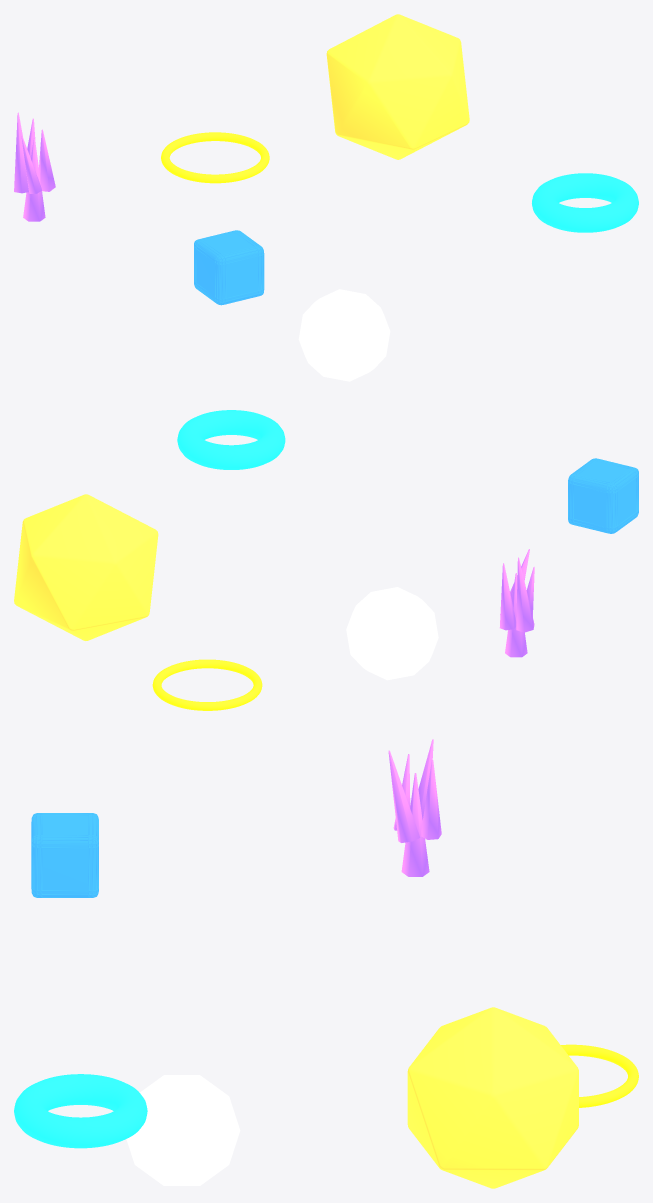
File: eecohm_hero_shapes.glb
The picture shows the model from 3 angles, top to bottom: view 1: azimuth 30°, elevation 25°; view 2: azimuth 150°, elevation 25°; view 3: azimuth 270°, elevation 25°; orthographic projection. The views are drawn at different scales.
Visible parts, largest first — view 1: HeroIcosahedron, HeroGemSphere, HeroTorusKnot, HeroTechCube, HeroGoldRing, Crystal_Spike_0, Crystal_Spike_2, Crystal_Spike_4; view 2: HeroIcosahedron, HeroGemSphere, HeroTorusKnot, HeroTechCube, HeroGoldRing, Crystal_Spike_2, Crystal_Spike_0, Crystal_Spike_1; view 3: HeroIcosahedron, HeroGemSphere, HeroTorusKnot, HeroTechCube, HeroGoldRing, Crystal_Spike_0, Crystal_Spike_4, Crystal_Spike_1.
Part boxes in pixels (x1,y1,x2,y2): HeroIcosahedron: (326,14,469,159); HeroGemSphere: (298,289,390,381); HeroTorusKnot: (532,173,638,232); HeroTechCube: (194,230,264,305); HeroGoldRing: (161,132,269,183); Crystal_Spike_0: (23,138,45,221); Crystal_Spike_2: (14,112,28,193); Crystal_Spike_4: (38,129,55,191); HeroIcosahedron: (14,494,158,640); HeroGemSphere: (346,587,438,680); HeroTorusKnot: (177,410,285,469); HeroTechCube: (568,458,638,533); HeroGoldRing: (152,659,262,710); Crystal_Spike_2: (516,557,534,632); Crystal_Spike_0: (505,573,527,657); Crystal_Spike_1: (499,563,516,630); HeroIcosahedron: (407,1007,578,1188); HeroGemSphere: (126,1075,240,1185); HeroTorusKnot: (14,1074,147,1148); HeroTechCube: (31,813,98,897); HeroGoldRing: (561,1044,638,1107); Crystal_Spike_0: (401,773,429,876); Crystal_Spike_4: (388,750,420,842); Crystal_Spike_1: (421,760,441,839).
Size of the model in its own units: 8.9 by 4.35 by 8.03.
